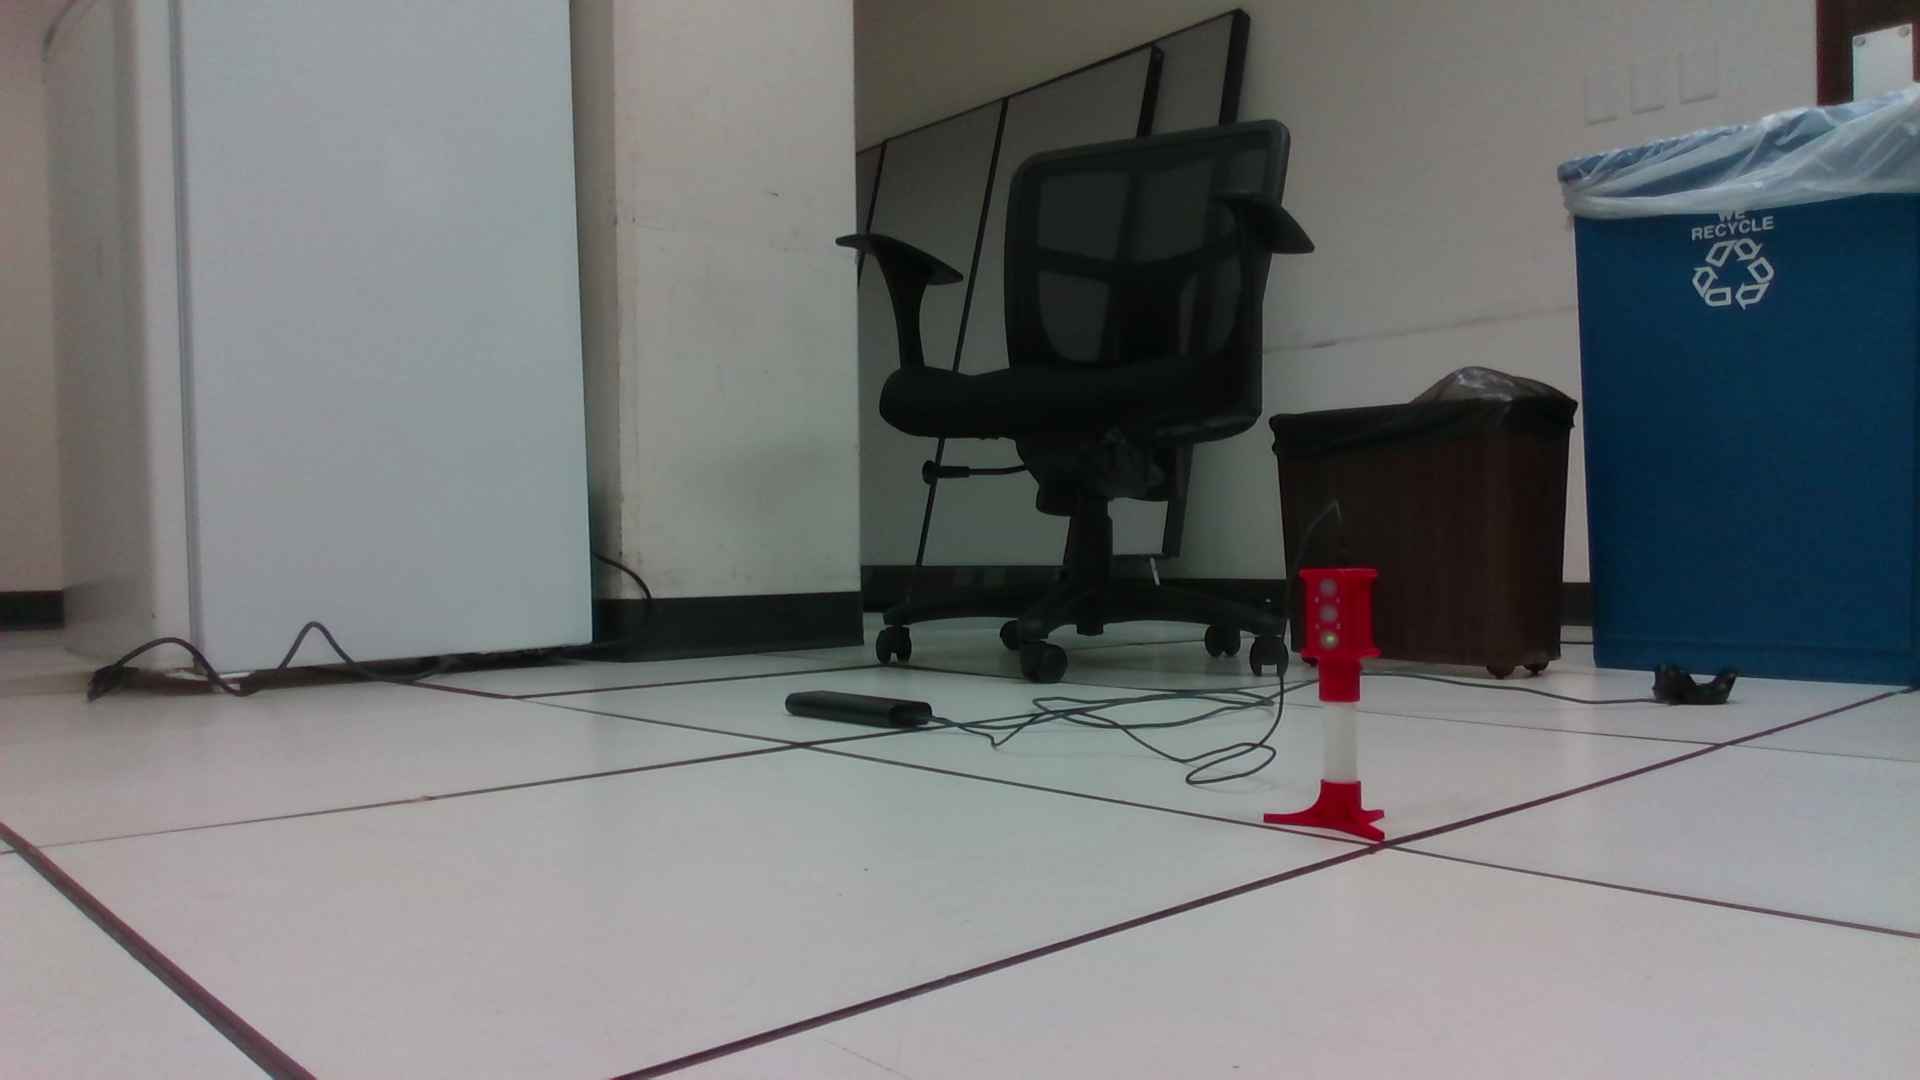stoplight: (1299, 564, 1382, 702)
